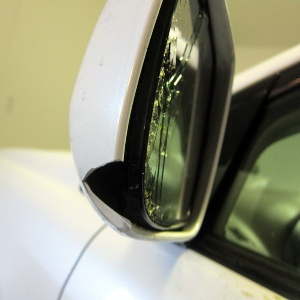side_mirror: (42, 2, 227, 240)
